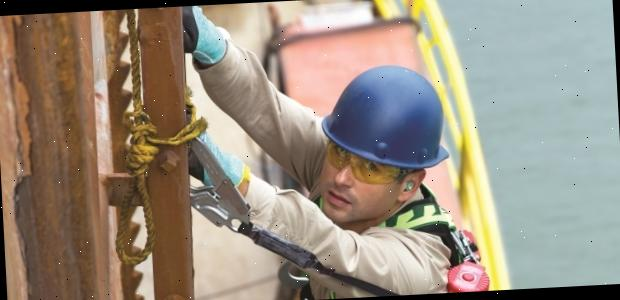helmet: (319, 60, 453, 176)
